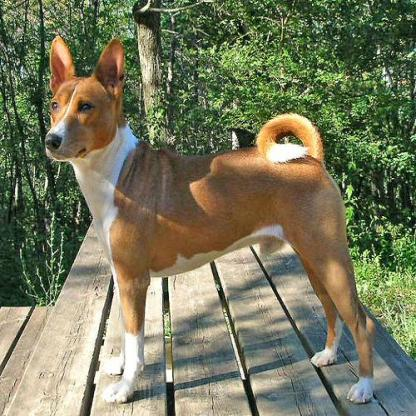basenji: (44, 33, 374, 405)
